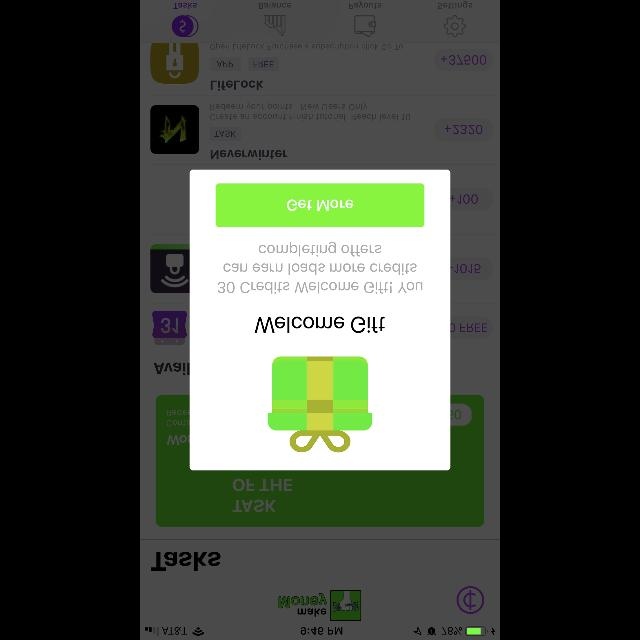image: (268, 356, 372, 452)
panel: (190, 170, 450, 470)
text: (218, 242, 422, 294), (255, 316, 385, 332)
textbutton: (216, 183, 424, 227)
uppertaskbar: (140, 626, 500, 640)
